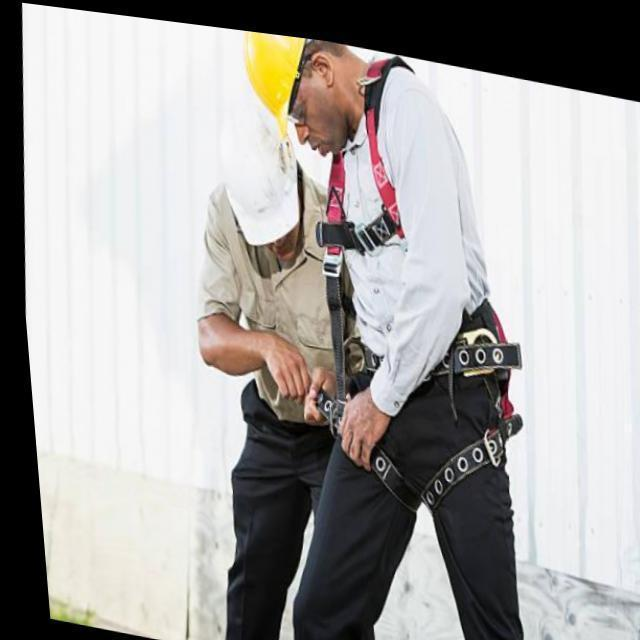Harness: (317, 56, 411, 414), (372, 302, 524, 514)
